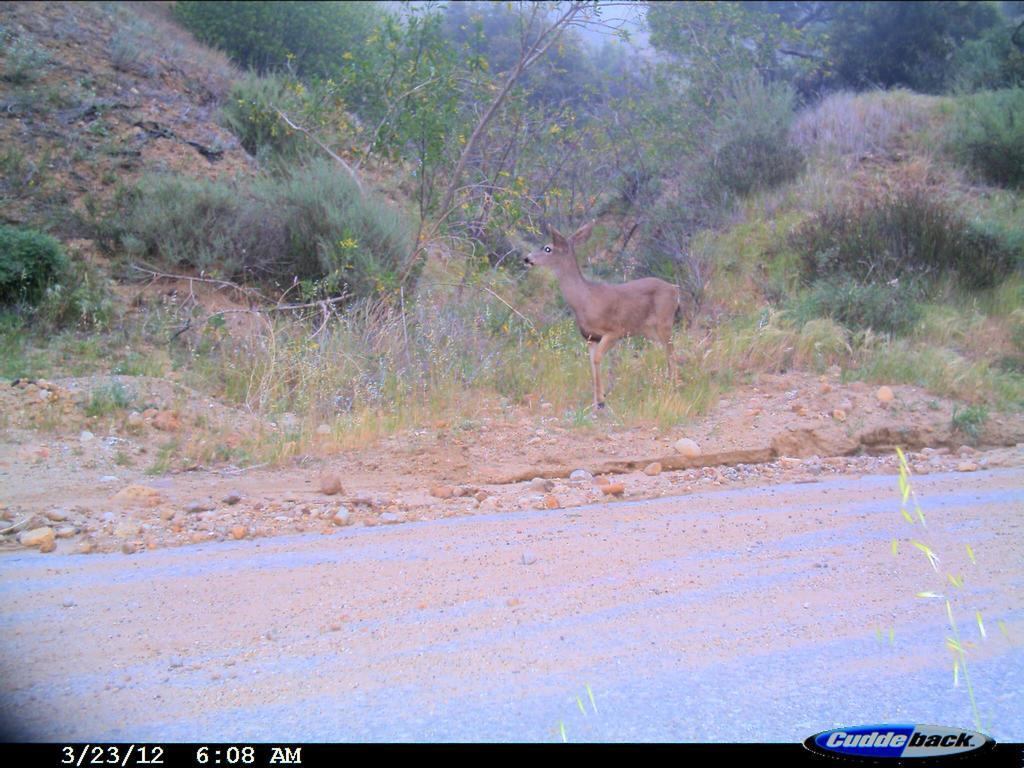deer: (520, 218, 690, 417)
